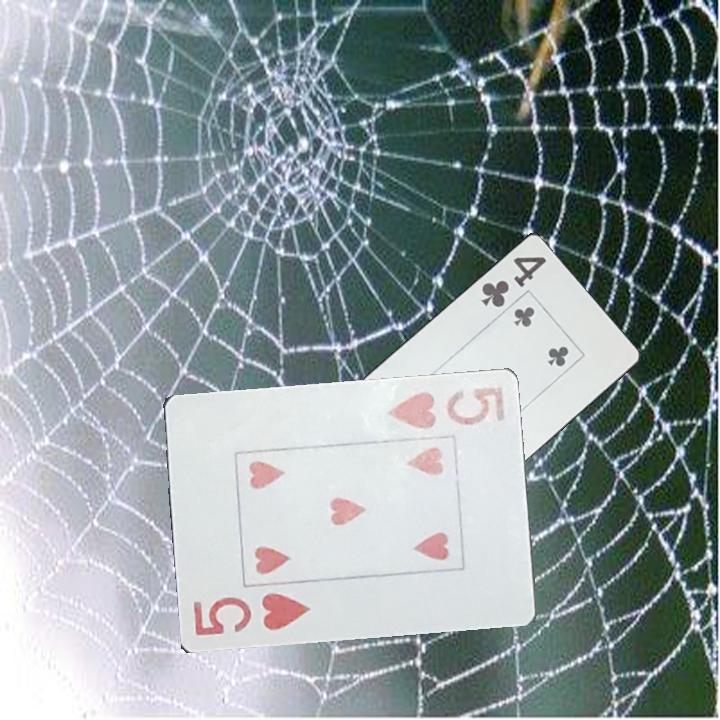4c: (477, 252, 549, 310)
5h: (381, 381, 507, 433), (189, 590, 314, 640)
